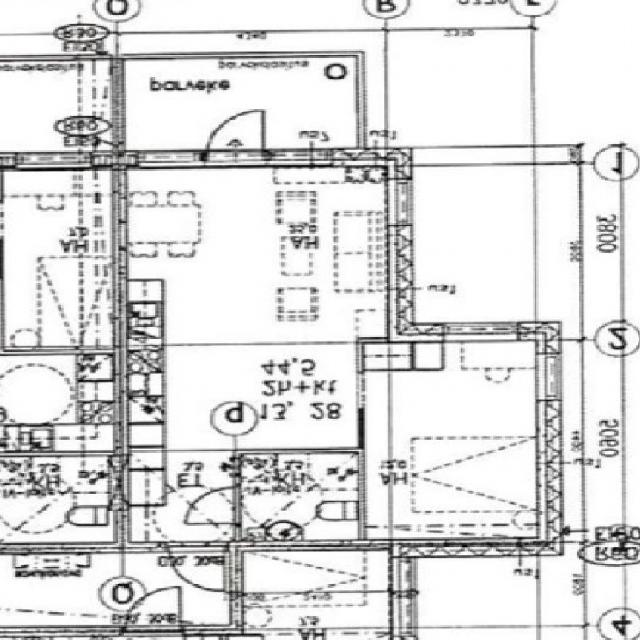door: (207, 105, 264, 165), (170, 541, 226, 595), (185, 488, 241, 524)
